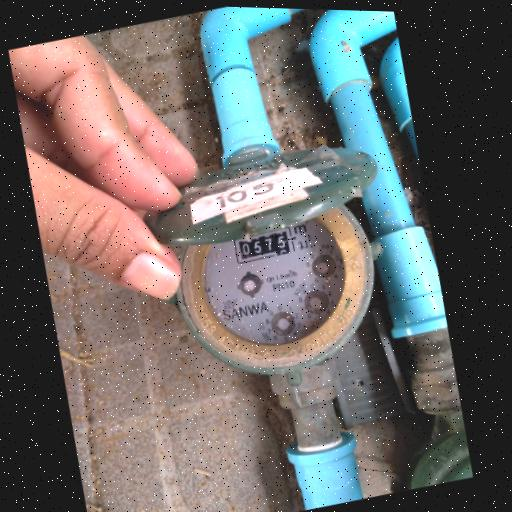0: (237, 238, 254, 259)
5: (270, 230, 292, 257), (249, 235, 268, 257)
7: (262, 233, 278, 254)
border_water_meter_number: (232, 225, 297, 266)
